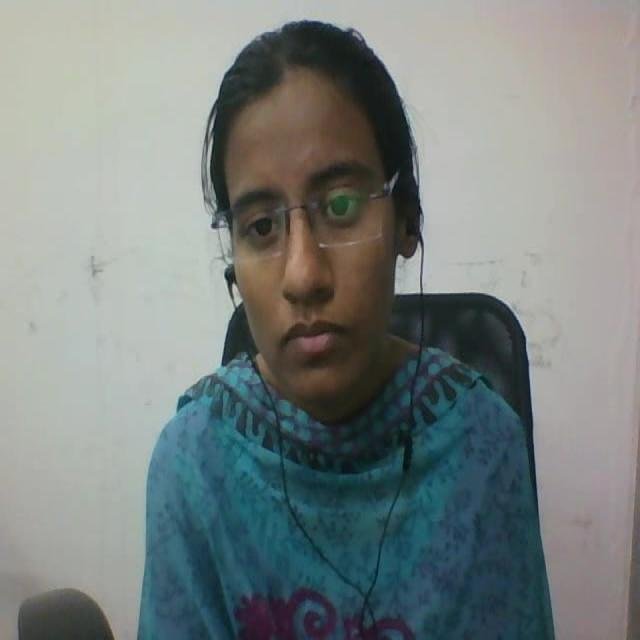Engaged: (191, 4, 431, 426)
